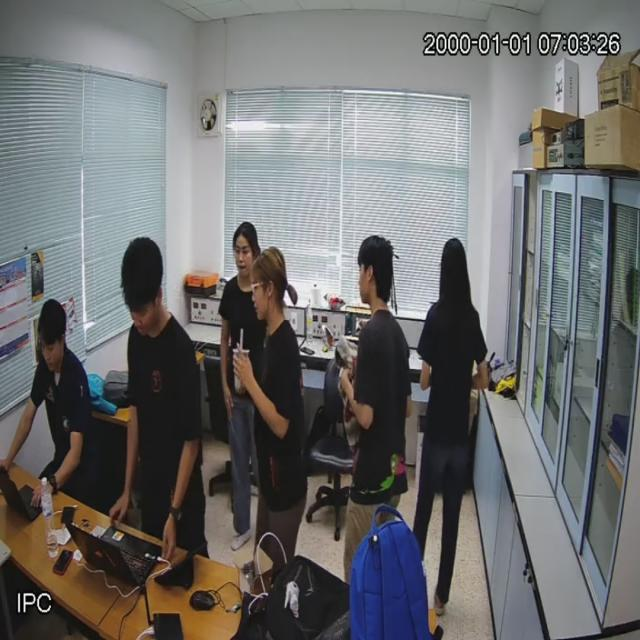normal: (115, 224, 210, 571), (414, 233, 488, 627), (345, 229, 416, 551), (250, 242, 315, 580), (27, 299, 95, 501)
